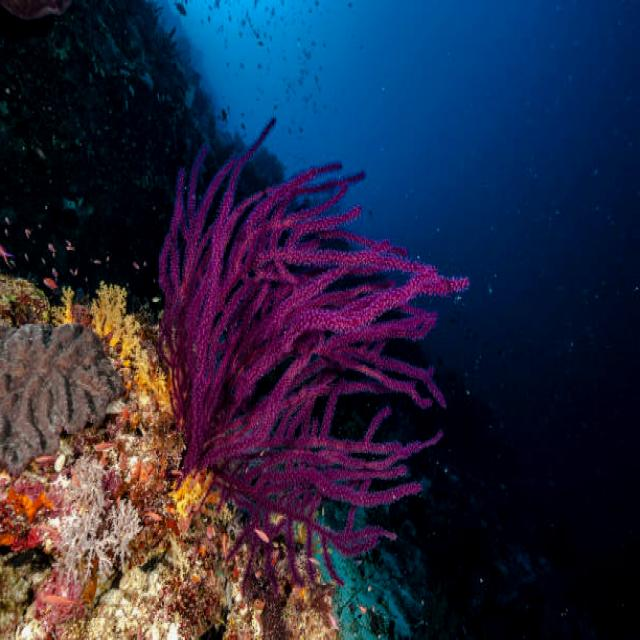Coral: (158, 115, 472, 594), (0, 324, 127, 478)
